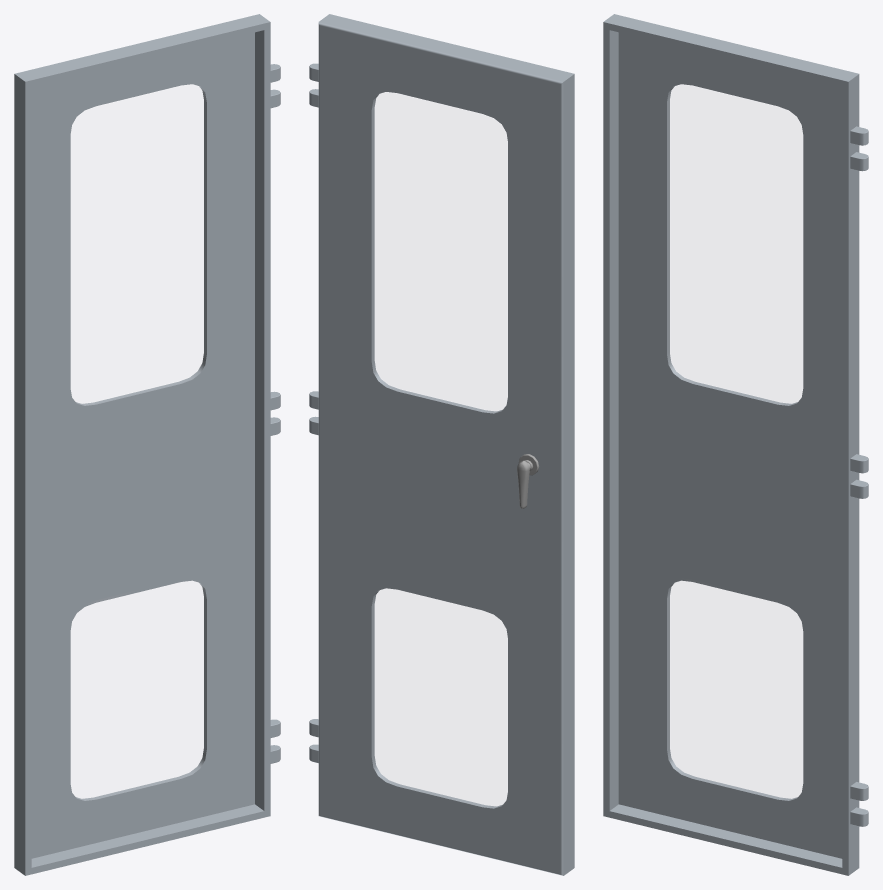
File: MOF_BACK_DOOR.fbx
3 views of the same model, side by side, from view 1: azimuth 30°, elevation 25°; view 2: azimuth 150°, elevation 25°; view 3: azimuth 330°, elevation 25° (orthographic).
Parts seen in each view (by area): view 1: MOF_BACK_DOOR2; view 2: MOF_BACK_DOOR2; view 3: MOF_BACK_DOOR2.
Part boxes in pixels (x1,y1,x2,y2): MOF_BACK_DOOR2: (14,14,280,875); MOF_BACK_DOOR2: (309,14,574,875); MOF_BACK_DOOR2: (603,14,868,875).
Size of the model in its own units: 0.6334 by 1.85 by 0.0875.
2 materials, 1 textured.
